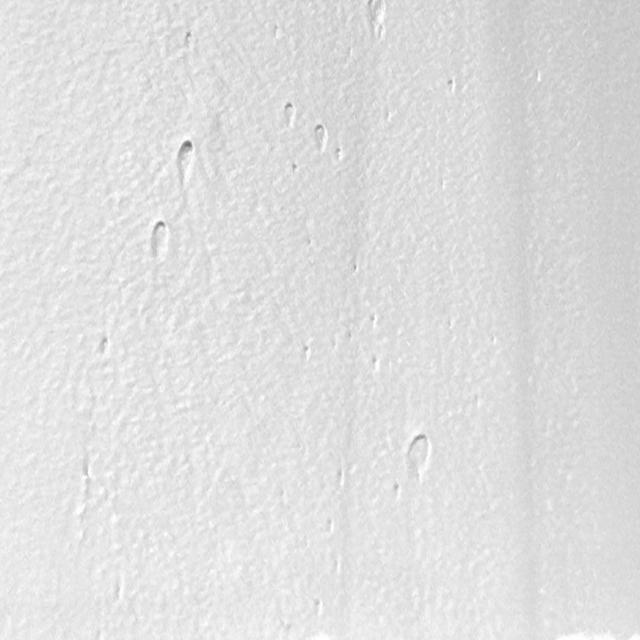pin holes: (404, 434, 436, 482), (362, 0, 391, 37), (147, 218, 172, 259), (175, 140, 199, 177), (312, 122, 330, 150), (308, 598, 327, 622), (95, 334, 113, 359), (111, 579, 129, 604), (279, 102, 296, 128), (321, 516, 336, 538), (184, 31, 198, 53), (392, 480, 405, 502), (271, 22, 284, 42), (368, 356, 382, 374), (300, 343, 313, 362), (444, 79, 456, 97), (369, 311, 381, 329), (533, 68, 546, 84), (333, 146, 344, 163), (290, 160, 302, 175), (349, 261, 360, 277), (344, 330, 354, 345)
